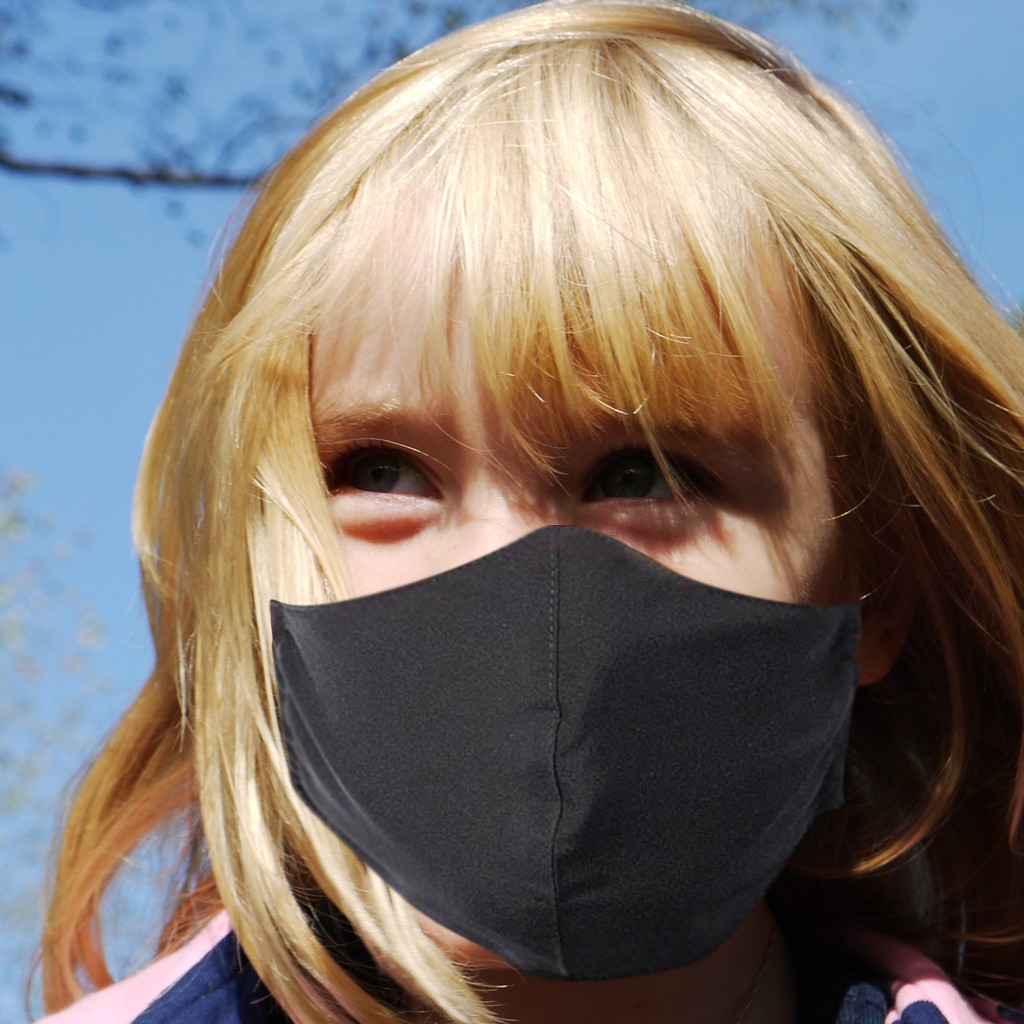con_mascara: (231, 115, 892, 974)
